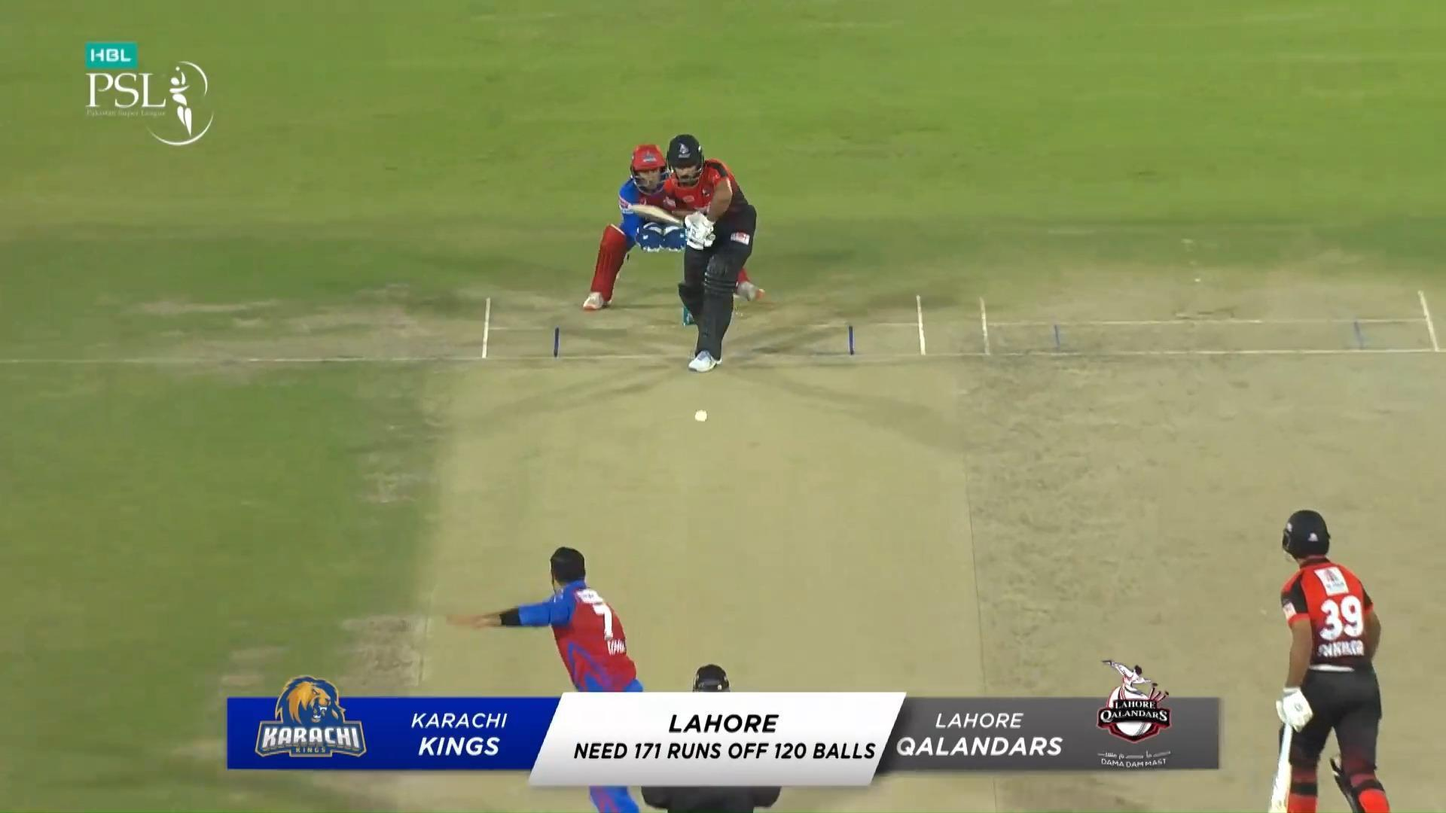BM 1: (629, 140, 759, 381)
BO: (444, 545, 678, 813)
